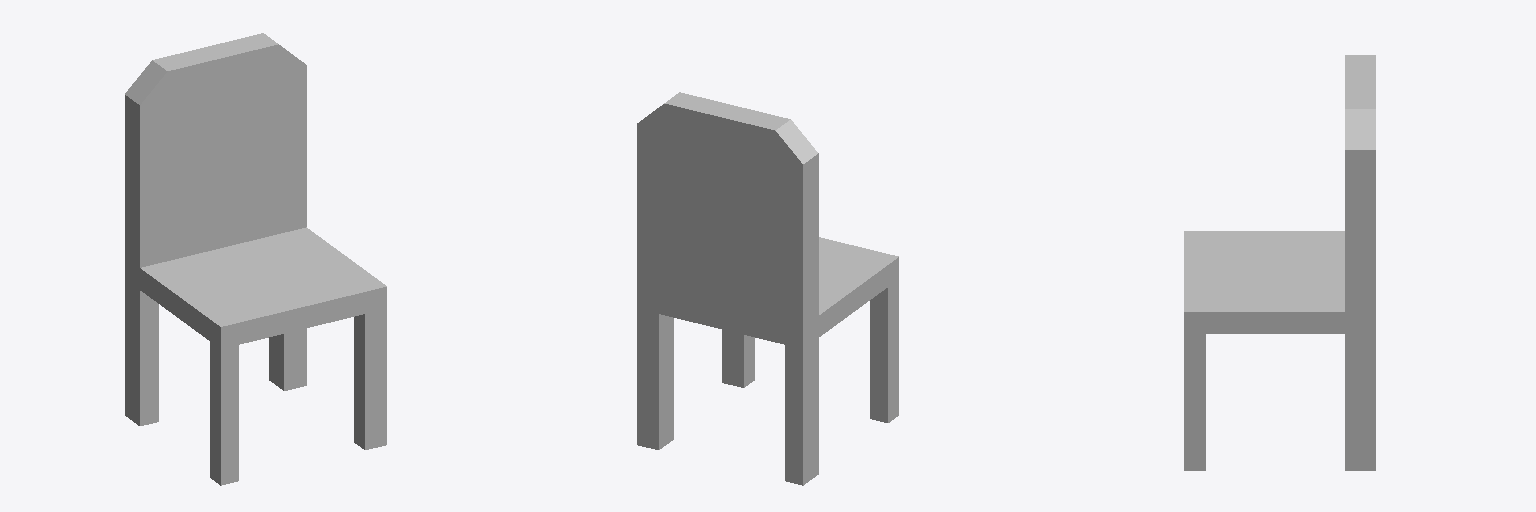
The model's file is chair.obj.
The picture shows the model from 3 angles: view 1: azimuth 30°, elevation 25°; view 2: azimuth 150°, elevation 25°; view 3: azimuth 270°, elevation 25°; orthographic projection.
Parts seen in each view (by area): view 1: Cube; view 2: Cube; view 3: Cube.
Boxes of the visible parts, box(x1,y1,x2,y2) form: Cube: box(125, 33, 386, 485); Cube: box(637, 92, 898, 485); Cube: box(1184, 55, 1375, 470).
Size of the model in its own units: 1 by 2 by 1.